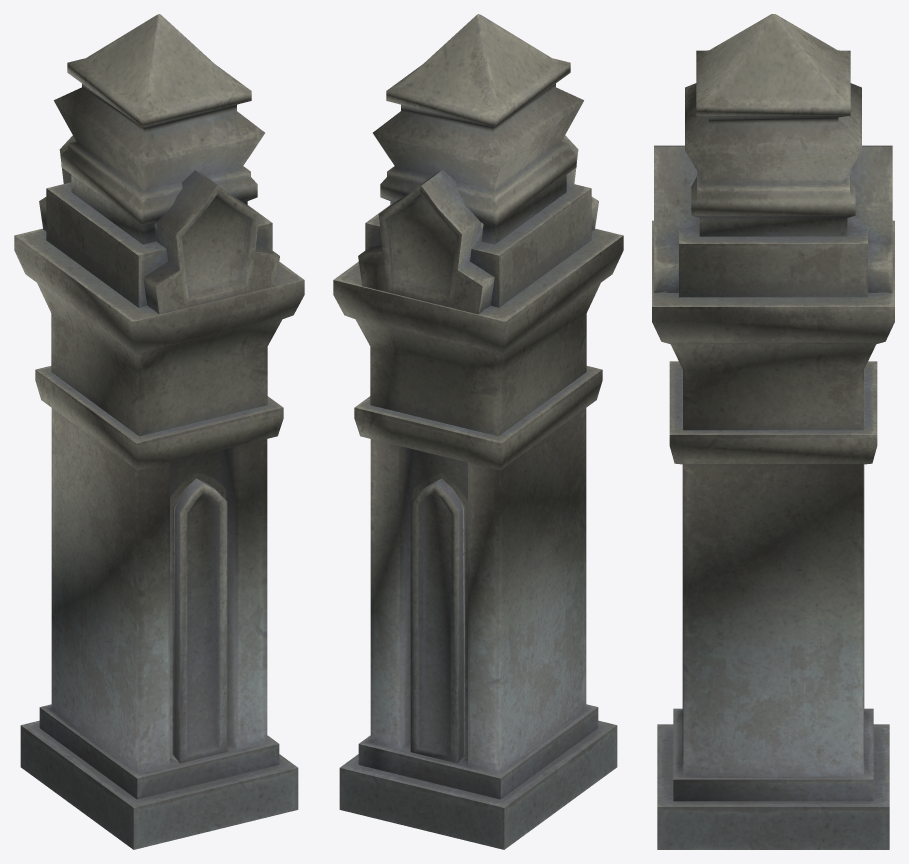
File: AD_Pillar_E_01.fbx
3 views of the same model, side by side, from view 1: azimuth 30°, elevation 25°; view 2: azimuth 150°, elevation 25°; view 3: azimuth 270°, elevation 25° (orthographic). The views are drawn at different scales.
Visible parts, largest first — view 1: AD_Pillar_E_01; view 2: AD_Pillar_E_01; view 3: AD_Pillar_E_01.
Boxes of the visible parts, <box> form: AD_Pillar_E_01: <box>14,14,304,849</box>; AD_Pillar_E_01: <box>333,14,623,849</box>; AD_Pillar_E_01: <box>652,14,894,849</box>.
Size of the model in its own units: 263 by 1130 by 313.
Materials: 1 (1 with a texture image).
